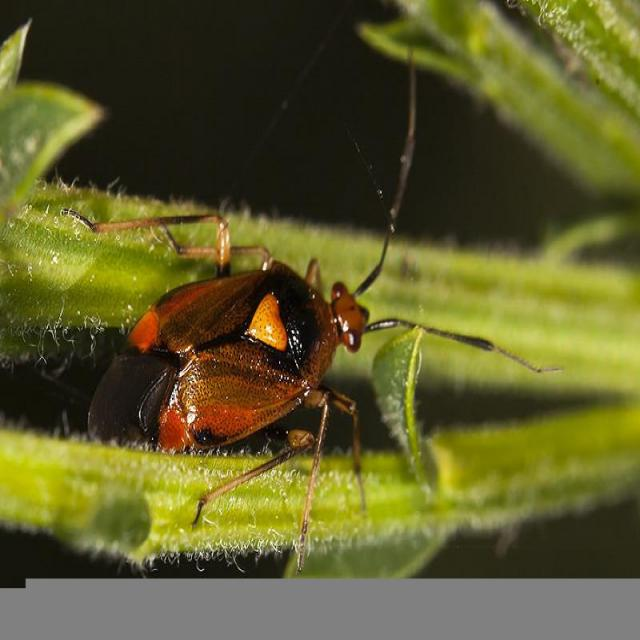Miridae-Adult-: (60, 145, 468, 524)
